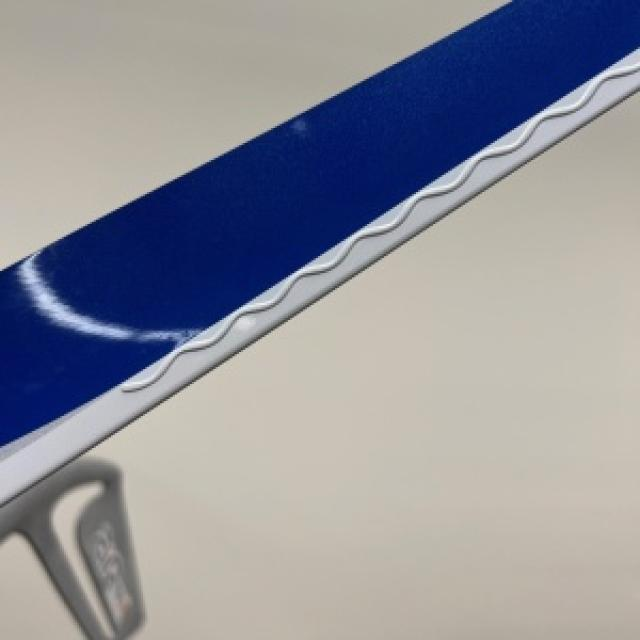healthy: (0, 531, 96, 638)
